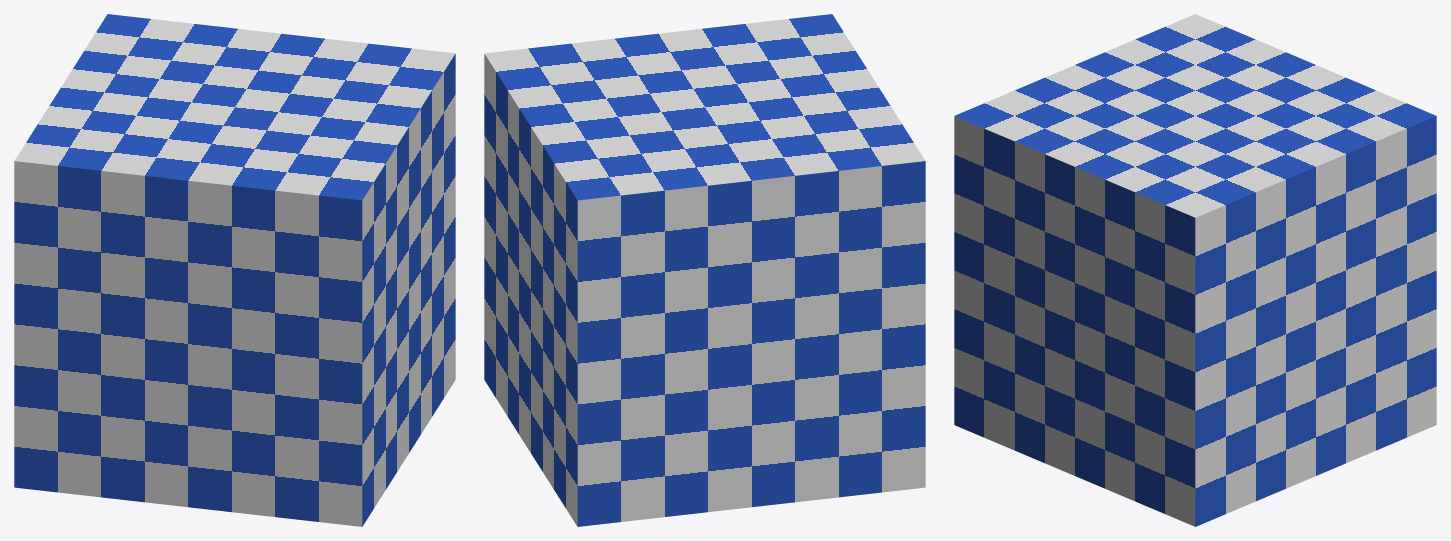
3 views of the same model, side by side, from view 1: azimuth 30°, elevation 25°; view 2: azimuth 150°, elevation 25°; view 3: azimuth 270°, elevation 25° (orthographic). The views are drawn at different scales.
Visible parts, largest first — view 1: cube; view 2: cube; view 3: cube.
Part boxes in pixels (x1,y1,x2,y2): cube: (14,14,455,526); cube: (484,14,925,526); cube: (954,14,1436,526).
Bounding box in the file's own units: 1.41 × 1 × 1.41.
Materials: 1 (1 with a texture image).
